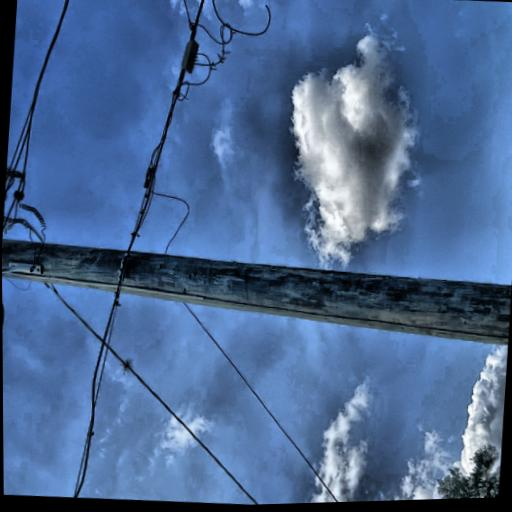pole: (0, 0, 133, 501)
street light: (5, 0, 101, 189)
transformer: (8, 27, 75, 144)
